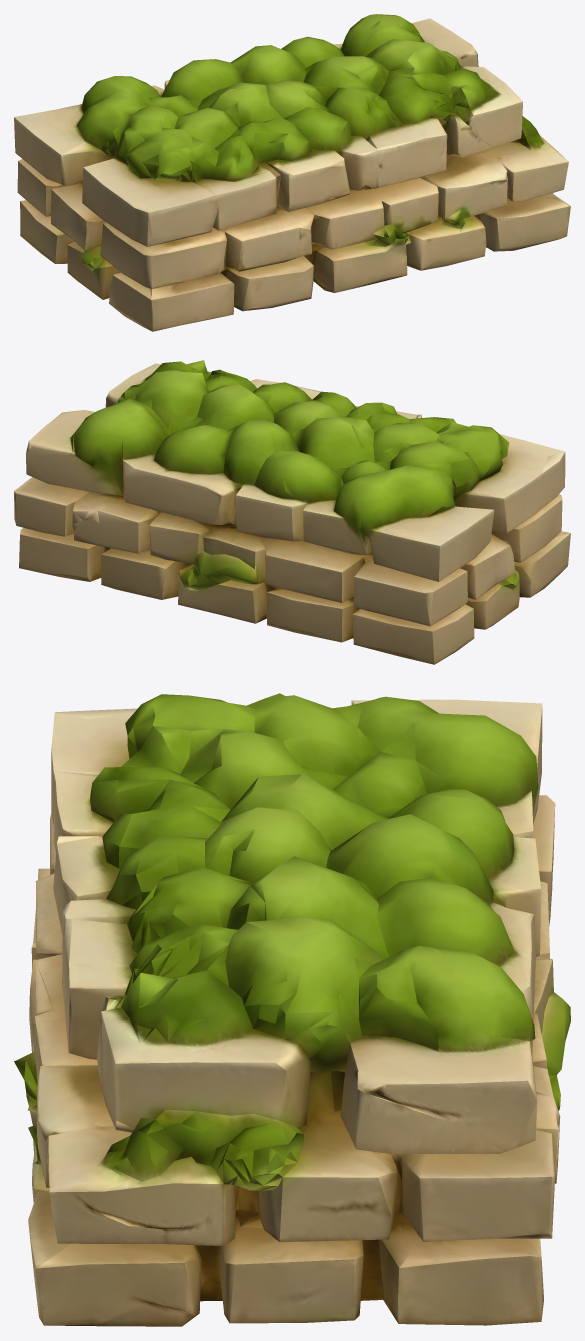
The model's file is m2RuinBrickLedge.glb.
The picture shows the model from 3 angles, top to bottom: view 1: azimuth 30°, elevation 25°; view 2: azimuth 150°, elevation 25°; view 3: azimuth 270°, elevation 25°; orthographic projection. The views are drawn at different scales.
Visible parts, largest first — view 1: model; view 2: model; view 3: model.
Part boxes in pixels (x1,y1,x2,y2): model: (14, 14, 570, 331); model: (14, 360, 570, 664); model: (14, 693, 570, 1326).
Bounding box in the file's own units: 1.88 × 0.6977 × 1.12.
Materials: 1 (1 with a texture image).
